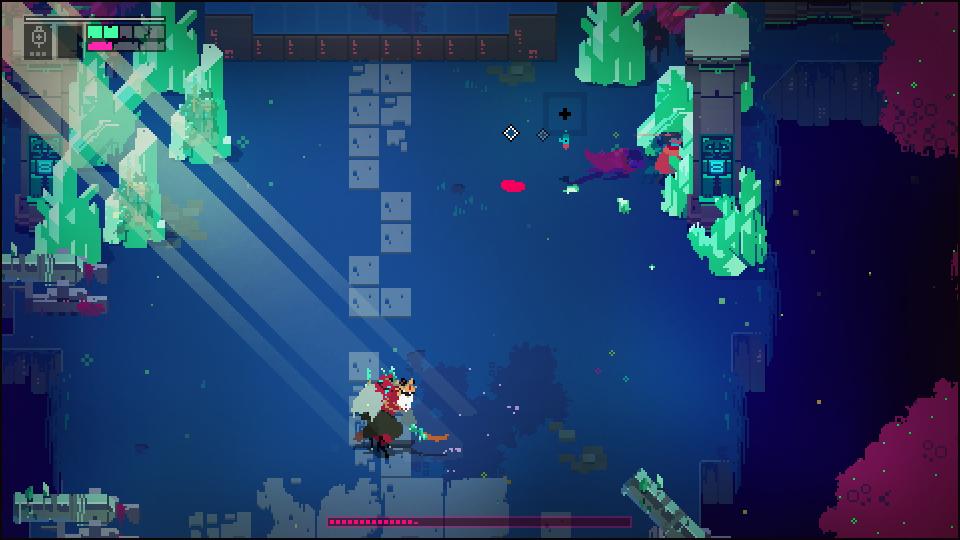hanged_man: (352, 368, 449, 445)
player: (652, 127, 687, 176)
